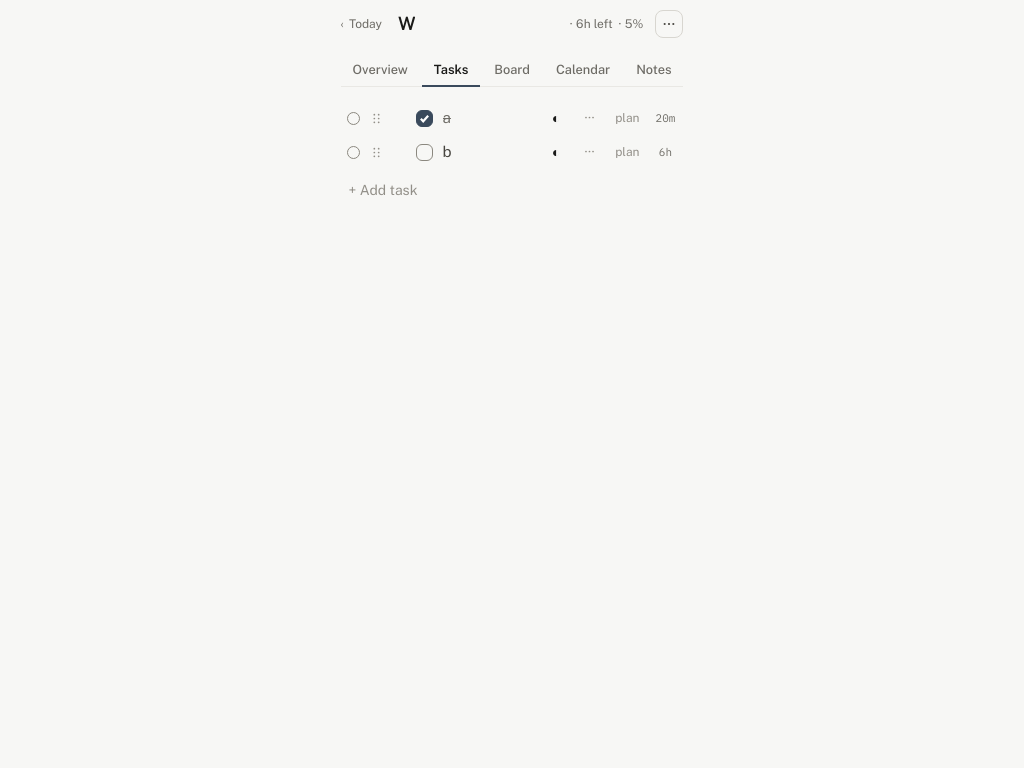
Test: disclosing how the percentage was computed › says the roll-up is weighted when every step is estimated
Click the button with aria-label "Goal status and dates".
click(607, 24)  # box [562, 10, 651, 38]
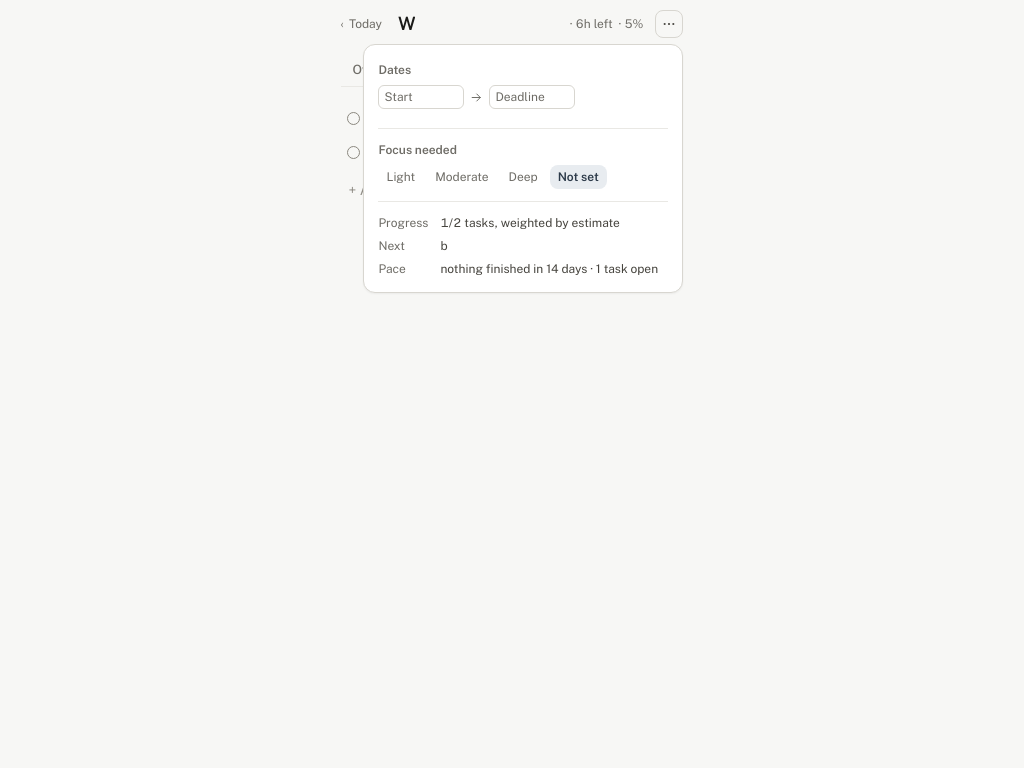
expect the text "1/2 tasks, weighted by estimate" is shown: met, box [440, 216, 620, 230]
